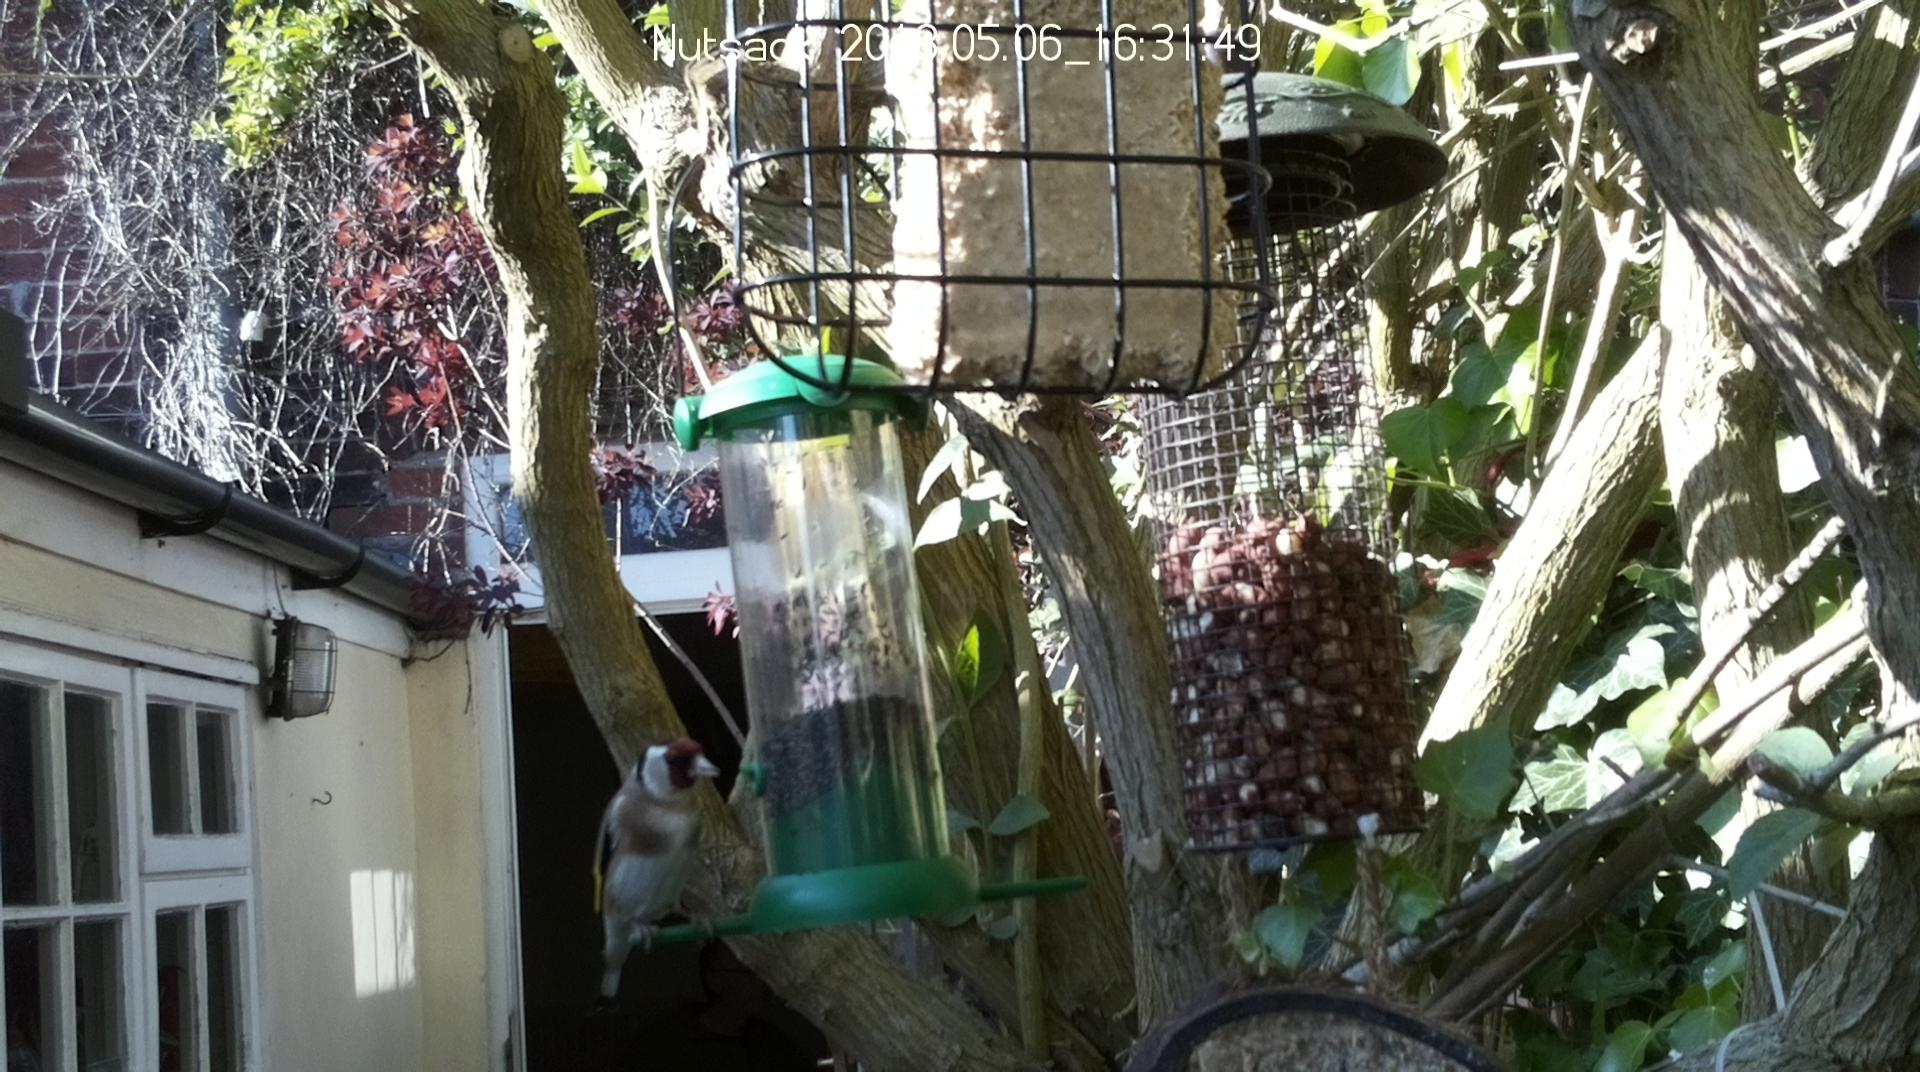goldfinch: (592, 738, 721, 999)
